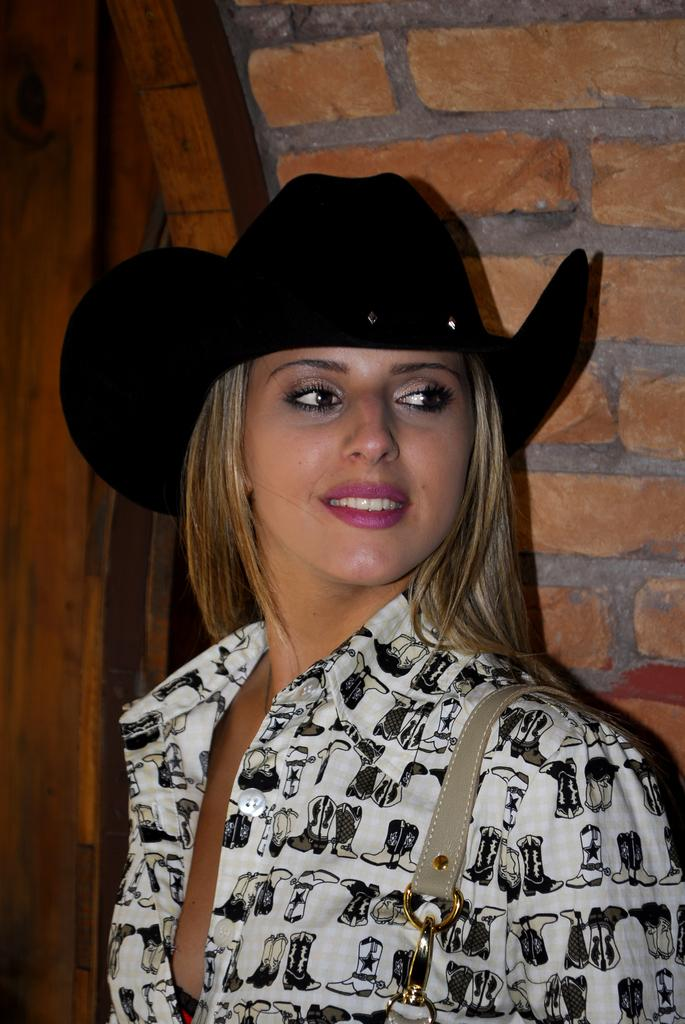Hat: (60, 173, 590, 519)
